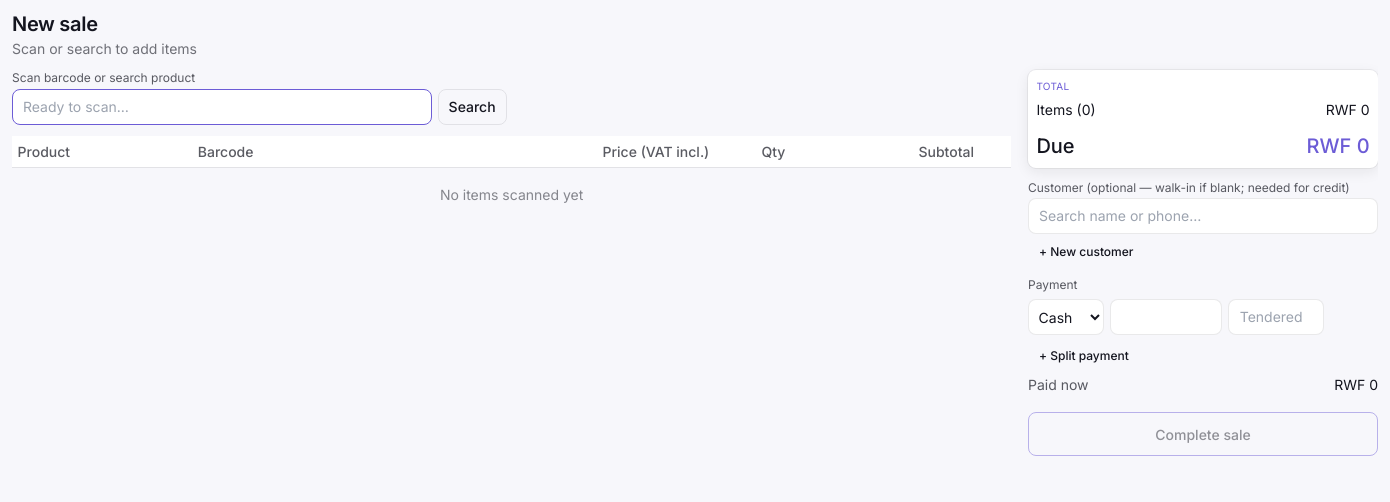
Test: PosCheckout › shows a markup line when a price is raised above the catalog price
Type "PES-AUD-00147" into the field labelled "Scan barcode or search product" at (222, 107), box [12, 89, 432, 125]
Then press Enter
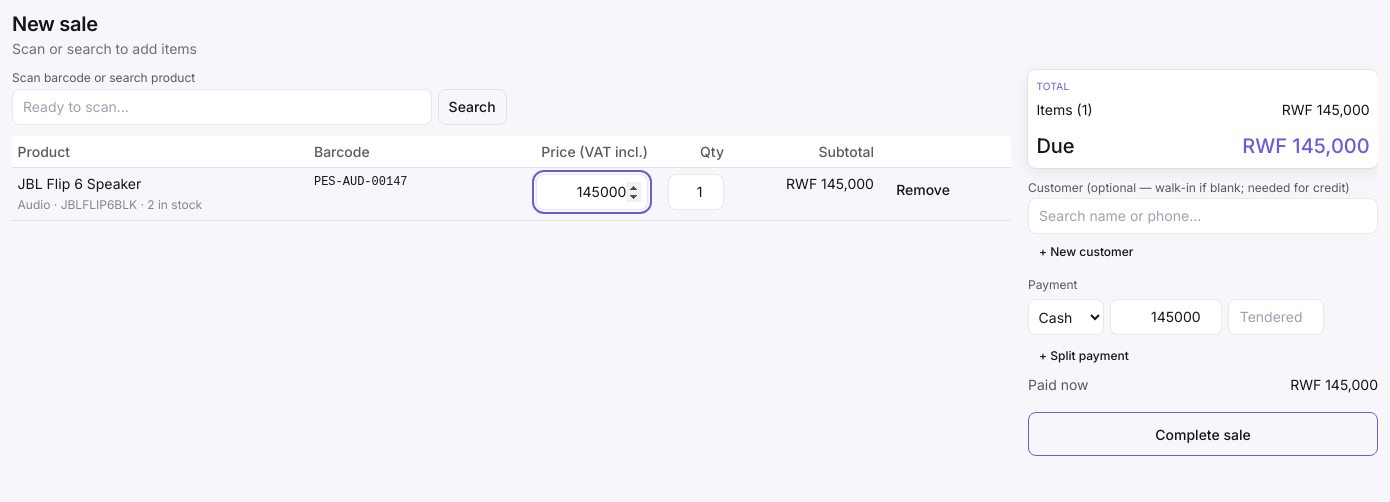
Type keys "{Control>}a{/Control}"
Type keys "150000"
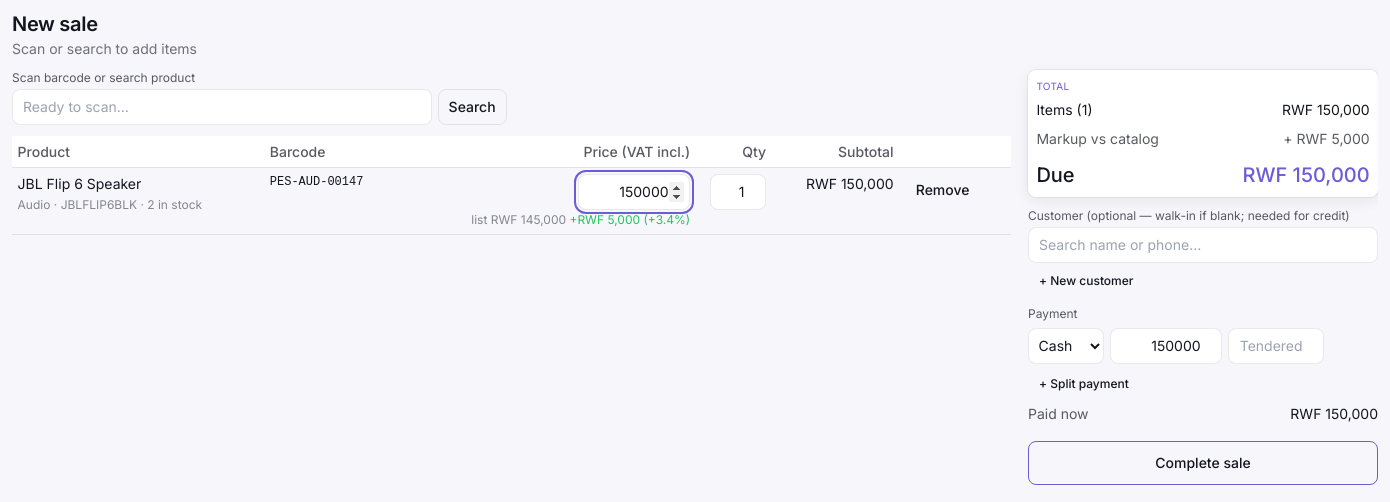
Expected: the text "Markup vs catalog" is shown, [1036, 129, 1159, 149]
Expected: the text "+ RWF 5,000" is shown, [1283, 129, 1370, 149]
